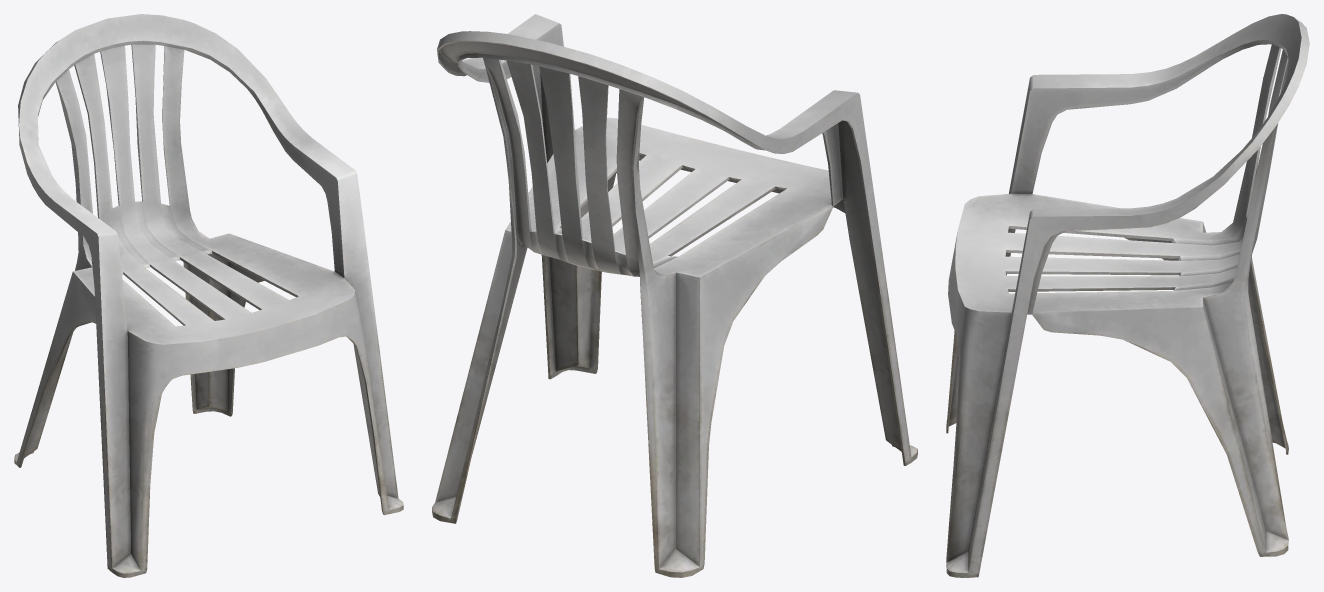
Rendered from plastic_monobloc_chair_01.glb.
The picture shows the model from 3 angles, left to right: view 1: azimuth 30°, elevation 25°; view 2: azimuth 150°, elevation 25°; view 3: azimuth 270°, elevation 25°; orthographic projection. The views are drawn at different scales.
Parts seen in each view (by area): view 1: plastic_monobloc_chair_01; view 2: plastic_monobloc_chair_01; view 3: plastic_monobloc_chair_01.
Part boxes in pixels (x1,y1,x2,y2): plastic_monobloc_chair_01: [14, 14, 403, 577]; plastic_monobloc_chair_01: [432, 14, 917, 577]; plastic_monobloc_chair_01: [946, 14, 1309, 577].
Bounding box in the file's own units: 0.6419 × 0.8798 × 0.6276.
Materials: 1 (1 with a texture image).
